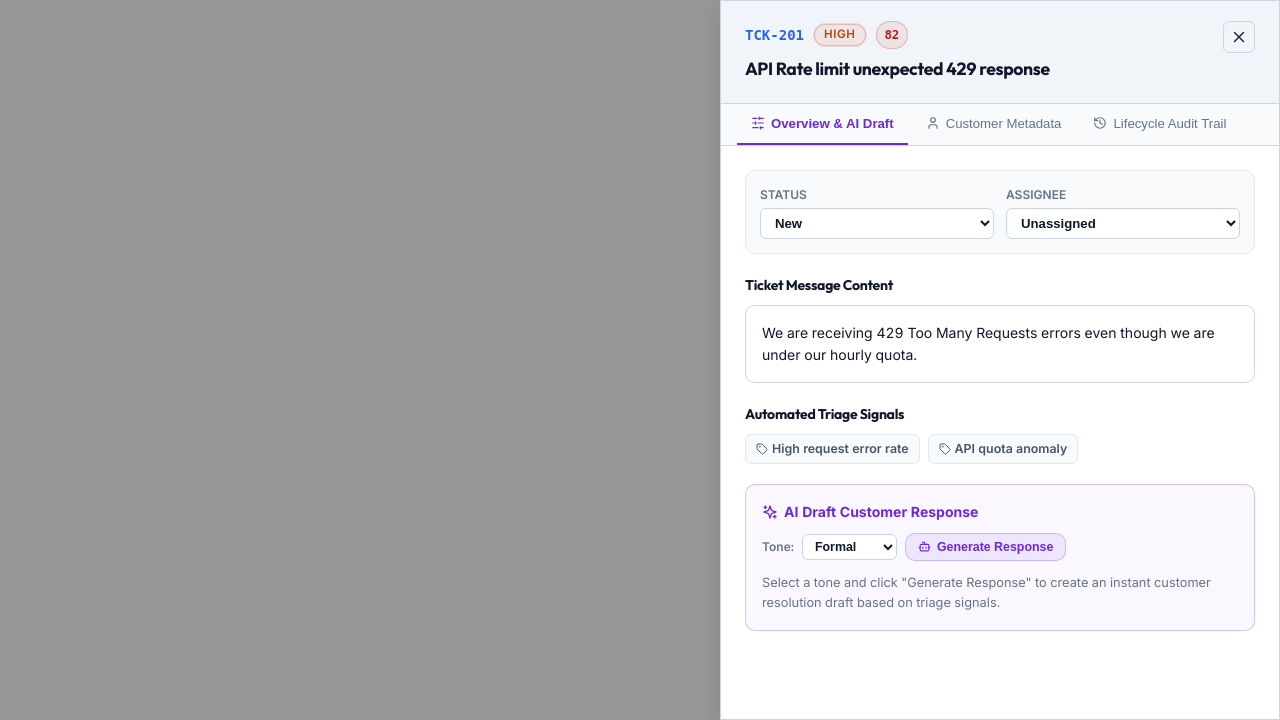
it: TicketDetailDrawer Component - Multi-Tab Navigation & AI Tone Controls (SPEC 005) › Multi-Tab Navigation State (SPEC 005) › switches to Customer Metadata tab and displays tier badge and past volume
The image size is (1280, 720).
Click the tab with test id "drawer-tab-customer" at (994, 124), box top-left (912, 104), bottom-right (1075, 145)
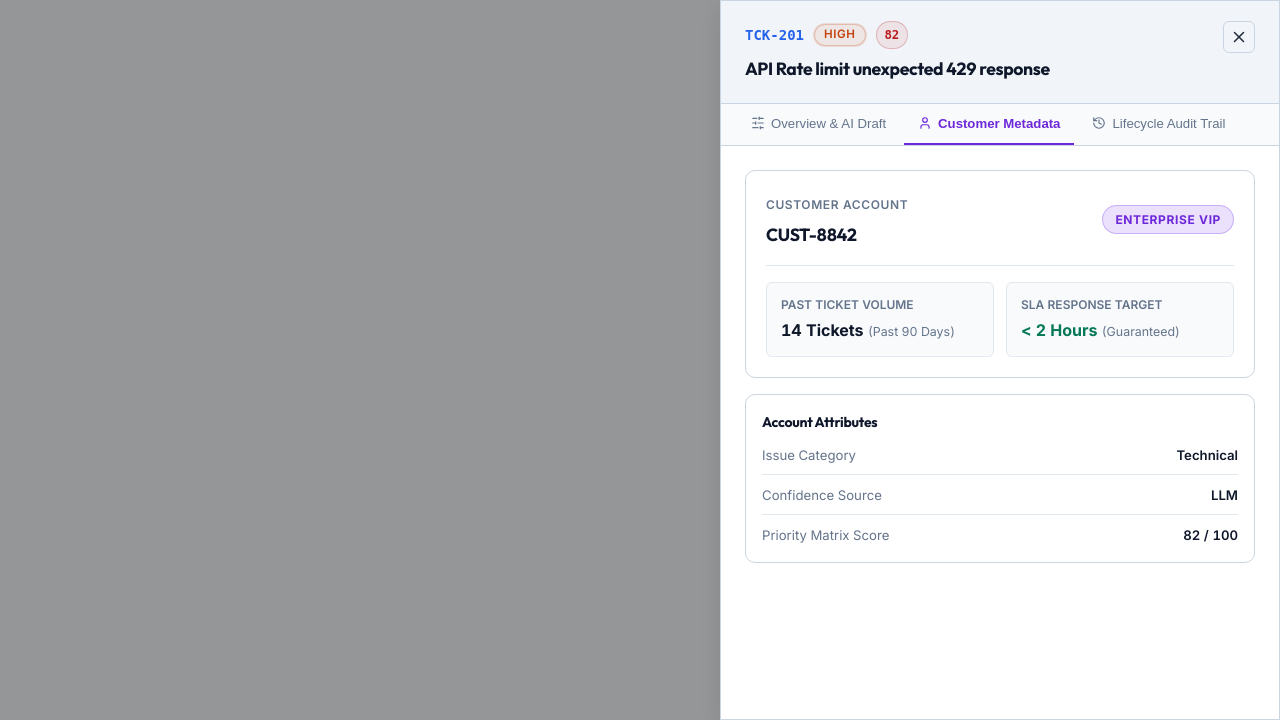
Result: the text "Enterprise VIP" is shown at top-left (1102, 205), bottom-right (1234, 234)
Result: the element with test id "customer-past-volume" is shown at top-left (766, 282), bottom-right (994, 356)
